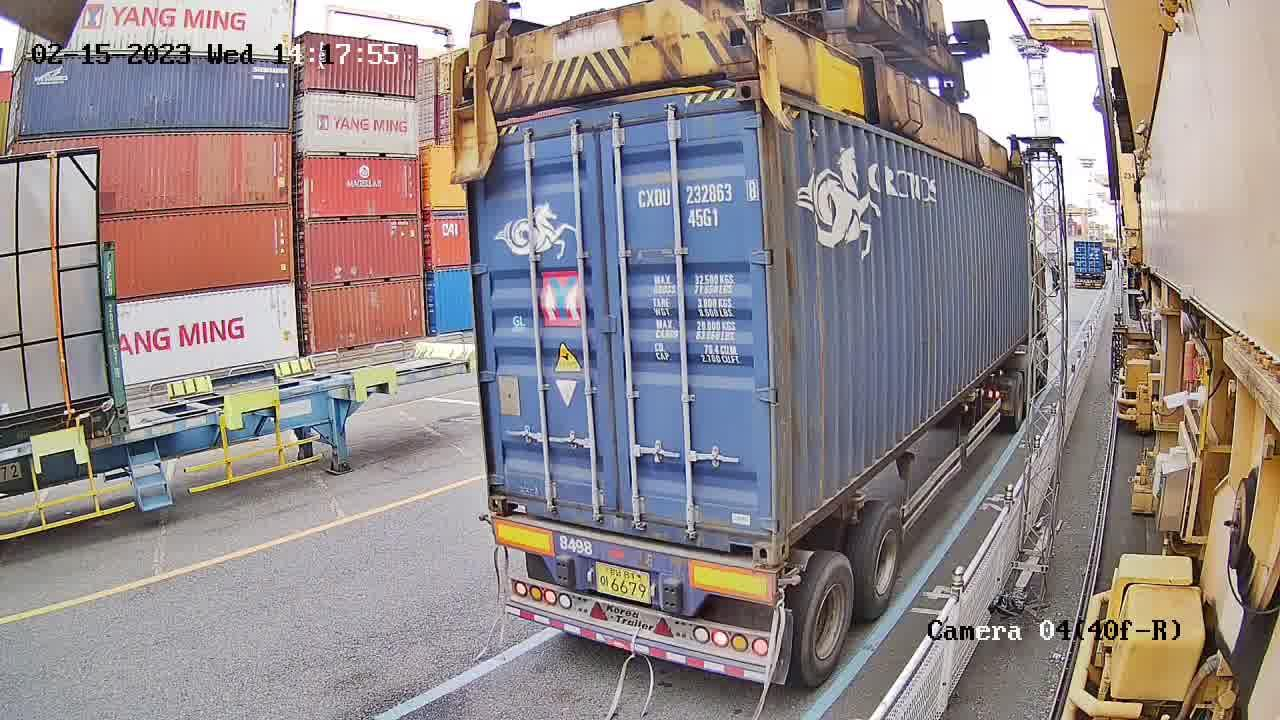Chassis: (492, 517, 780, 617)
Cone: (775, 559, 794, 601)
Hole_L: (775, 481, 809, 566), (486, 465, 529, 516)
Hole_R: (716, 501, 774, 566)
Tire: (802, 558, 855, 688), (859, 505, 905, 616)
